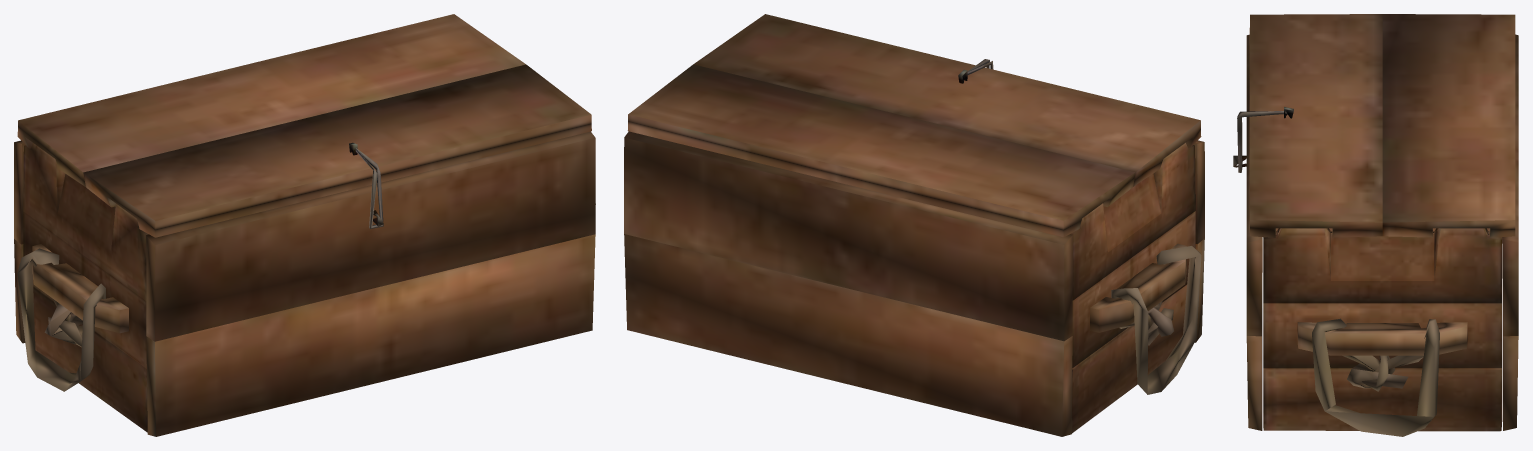
Rendered from crate.glb.
The picture shows the model from 3 angles, left to right: view 1: azimuth 30°, elevation 25°; view 2: azimuth 150°, elevation 25°; view 3: azimuth 270°, elevation 25°; orthographic projection. The views are drawn at different scales.
Parts seen in each view (by area): view 1: wooden_crate_01_lid; view 2: wooden_crate_01_lid; view 3: wooden_crate_01_lid.
Boxes of the visible parts, <box> form: wooden_crate_01_lid: <box>14,14,595,436</box>; wooden_crate_01_lid: <box>624,14,1204,436</box>; wooden_crate_01_lid: <box>1233,14,1518,436</box>.
Size of the model in its own units: 0.8245 by 0.3469 by 0.4042.
1 material, 1 textured.
